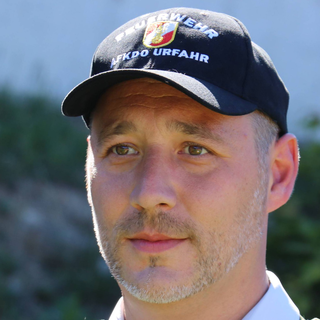eye: (175, 138, 219, 164), (102, 139, 145, 164)
